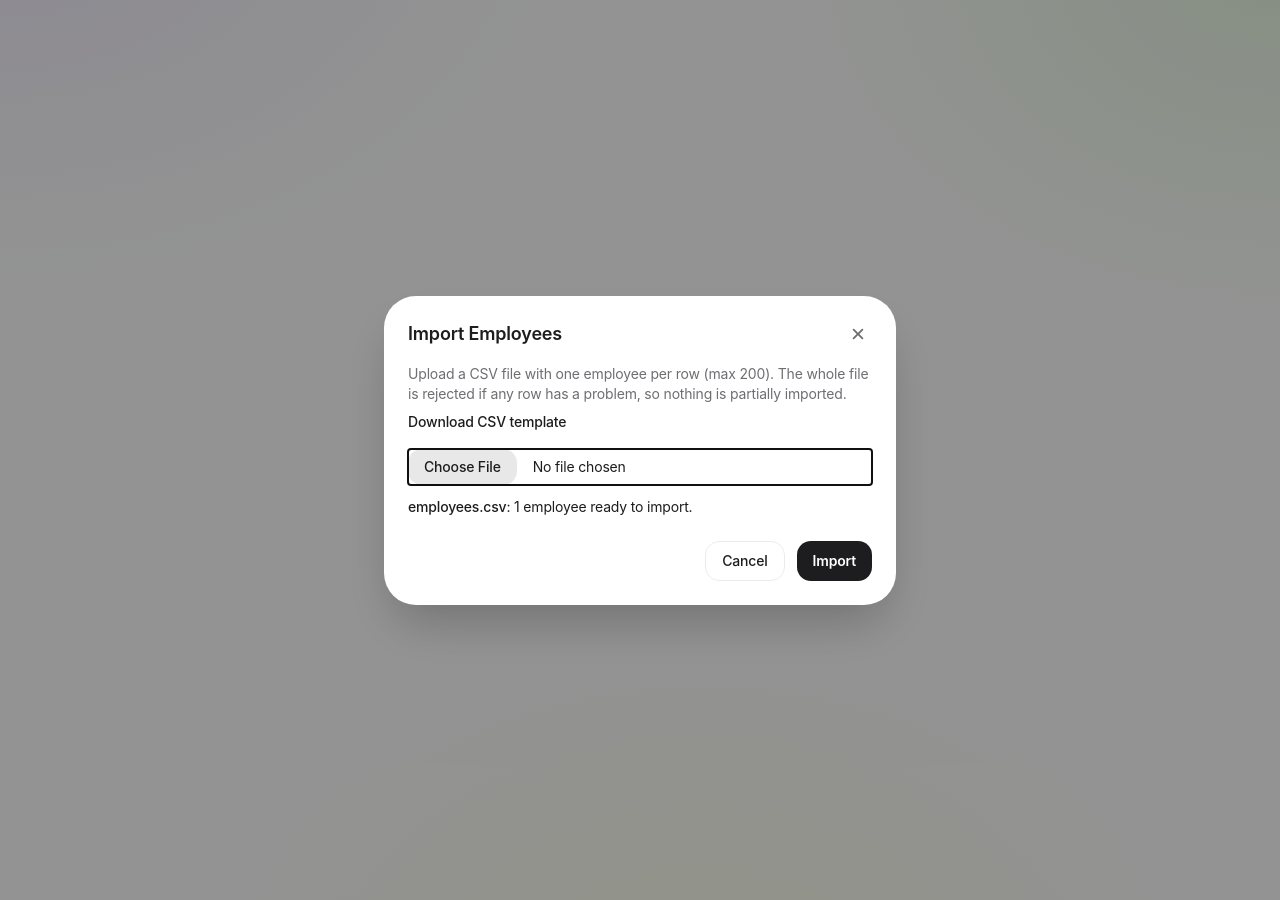
it: BulkImportModal › lists every server-side row error when the import is rejected
Earlier steps of the test are not shown.
Click the button "Import" at (834, 560), box [796,540,872,580]
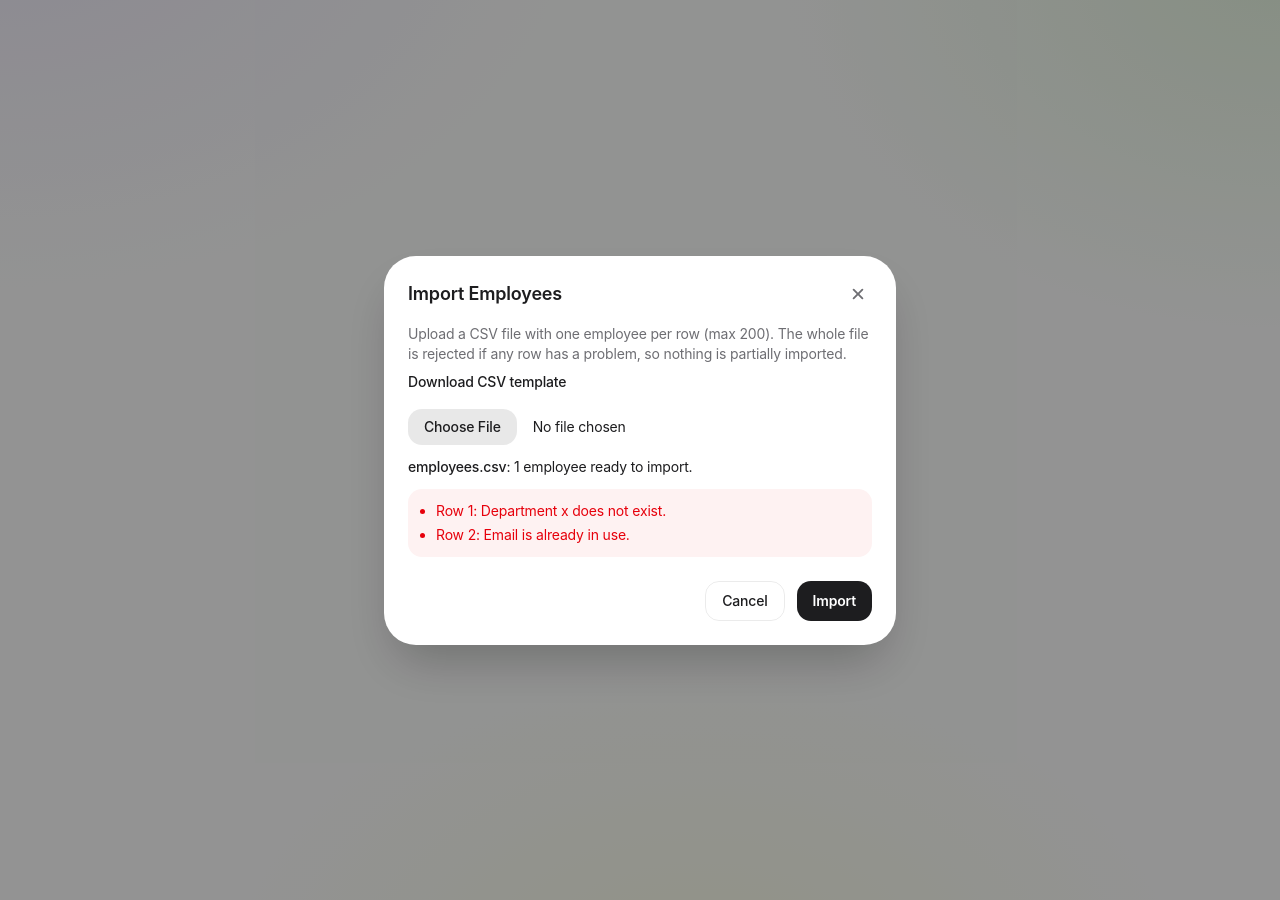
Expected: the list item "Row 1: Department x does not exist." is shown, [436,502,666,518]
Expected: the list item "Row 2: Email is already in use." is shown, [436,526,630,542]
